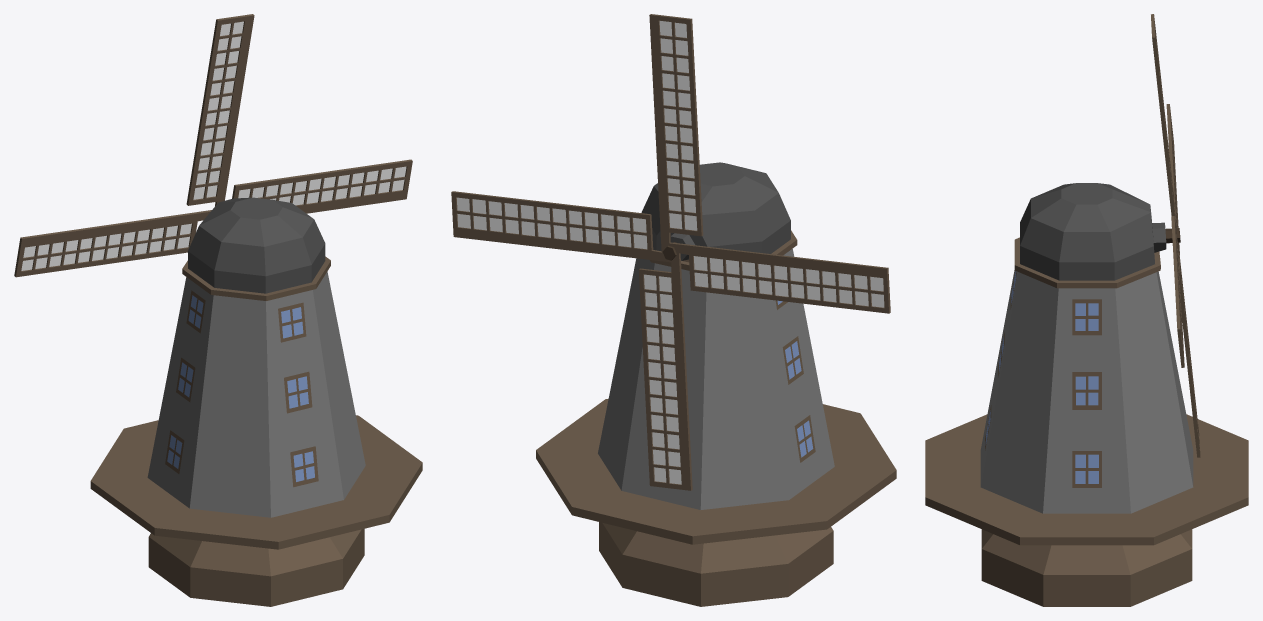
File: Windmill.fbx
3 views of the same model, side by side, from view 1: azimuth 30°, elevation 25°; view 2: azimuth 150°, elevation 25°; view 3: azimuth 270°, elevation 25° (orthographic). The views are drawn at different scales.
Visible parts, largest first — view 1: Windmill_Model, Wings; view 2: Windmill_Model, Wings; view 3: Windmill_Model, Wings.
Boxes of the visible parts, bbox=[...] form: Windmill_Model: bbox=[90, 197, 422, 606]; Wings: bbox=[14, 14, 412, 277]; Windmill_Model: bbox=[536, 162, 896, 606]; Wings: bbox=[451, 14, 890, 490]; Windmill_Model: bbox=[925, 183, 1248, 606]; Wings: bbox=[1151, 14, 1200, 457].
Size of the model in its own units: 1888 by 2347 by 1265.
6 materials, 1 textured.
